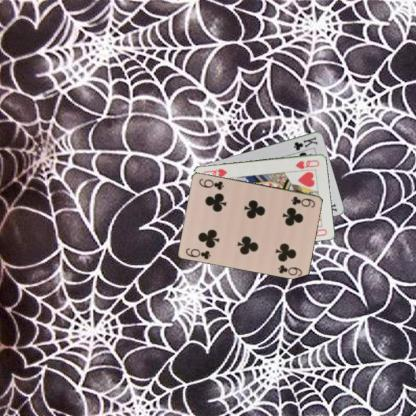6c: (183, 245, 212, 260), (289, 194, 317, 209)
Kc: (291, 134, 319, 151)
Qh: (293, 157, 321, 170)
